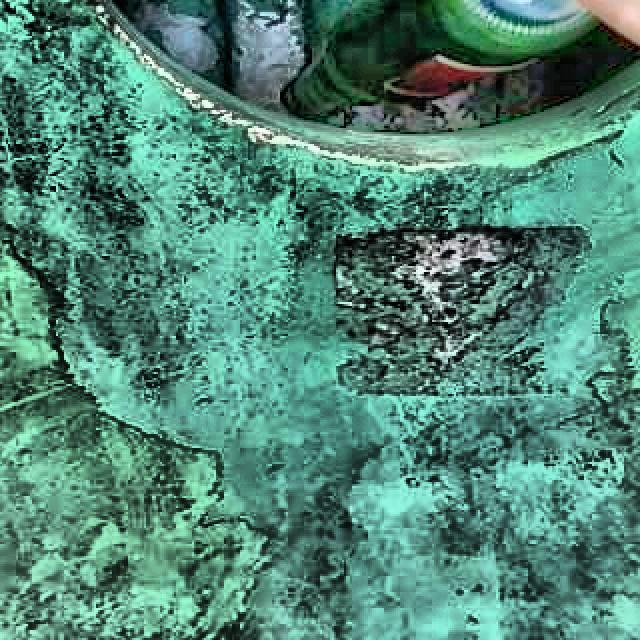glass: (283, 0, 597, 122)
